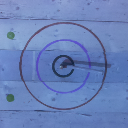Axe Tip: (62, 62, 75, 66)
